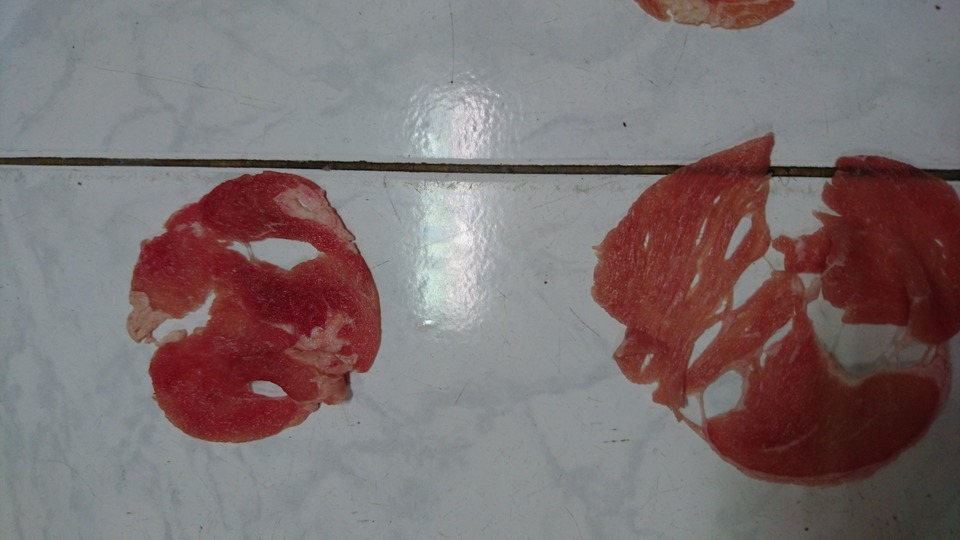restructured meat: (590, 124, 947, 476), (120, 133, 416, 450)
